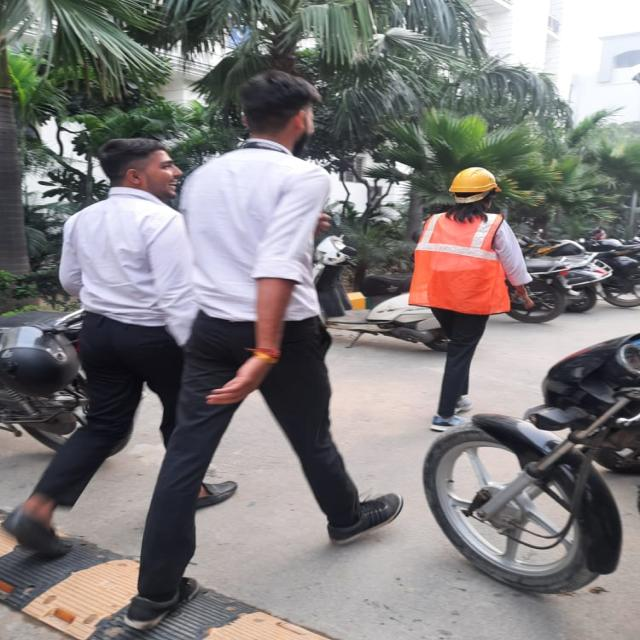safe: (406, 166, 532, 432)
unsafe: (134, 71, 409, 640), (9, 134, 232, 558)
